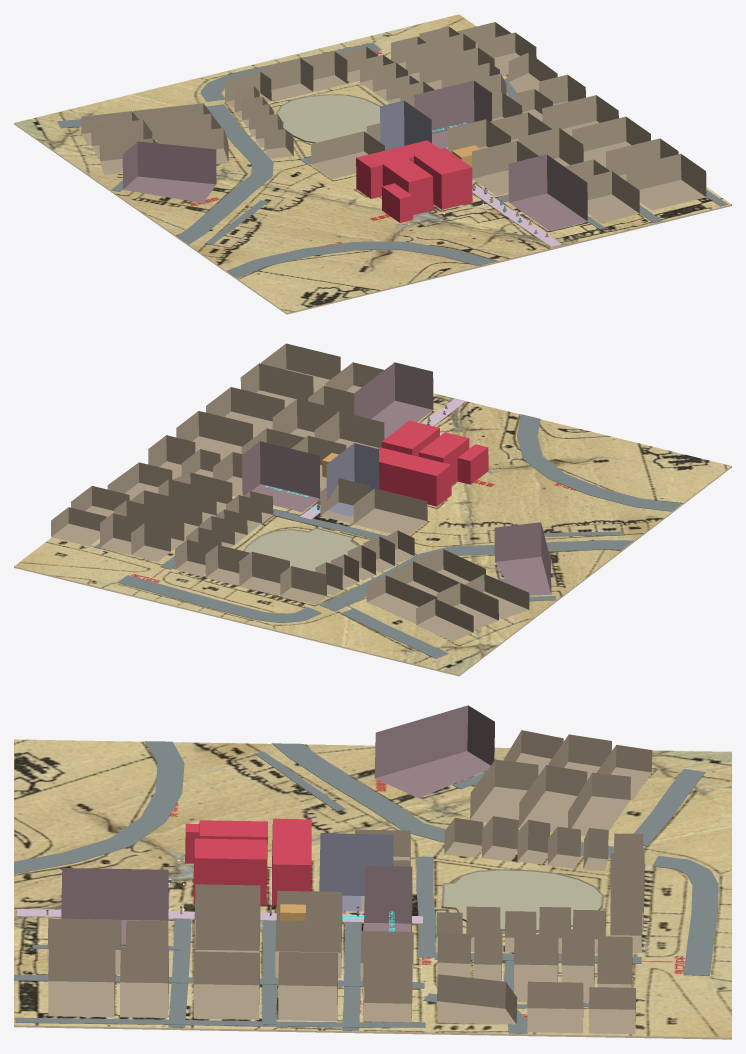
File: tung-wah-street-animation.glb
3 views of the same model, one above another, from view 1: azimuth 30°, elevation 25°; view 2: azimuth 150°, elevation 25°; view 3: azimuth 270°, elevation 25° (orthographic). The views are drawn at different scales.
Parts seen in each view (by area): view 1: 00｜原始歷史地圖參考底圖, 建築｜Theatre｜高陞戲院, 建築｜Theatre｜同慶戲院, 空地｜水坑口空地（大笪地）, 建築｜Ordinary｜普慶坊南－04, 道路｜02｜大道西｜西段, 建築｜Theatre｜昇平戲院, 道路｜10｜醫院道, 建築｜Hospital｜東華醫院－東翼, 建築｜Ordinary｜普慶坊南－02, 建築｜Ordinary｜GAP STREET南側－01, 建築｜Ordinary｜南街廓－03 (+39 smaller); view 2: 00｜原始歷史地圖參考底圖, 建築｜Theatre｜昇平戲院, 建築｜Theatre｜同慶戲院, 建築｜Theatre｜高陞戲院, 建築｜Hospital｜北養病樓, 空地｜水坑口空地（大笪地）, 道路｜10｜醫院道, 建築｜Ordinary｜GAP STREET南側－01, 建築｜Ordinary｜太平山街南－03, 建築｜Church｜聖士提反教堂, 道路｜02｜大道西｜西段, 建築｜Ordinary｜南街廓－03 (+46 smaller); view 3: 00｜原始歷史地圖參考底圖, 建築｜Theatre｜高陞戲院, 建築｜Theatre｜同慶戲院, 空地｜水坑口空地（大笪地）, 建築｜Ordinary｜普慶坊南－04, 建築｜Ordinary｜南街廓－03, 道路｜10｜醫院道, 建築｜Ordinary｜太平山街南－03, 建築｜Church｜聖士提反教堂, 建築｜Hospital｜東華醫院－東翼, 建築｜Ordinary｜荷李活道東邊角地, 建築｜Ordinary｜普慶坊南－03 (+52 smaller).
Boxes of the visible parts, box(x1,y1,x2,y2) form: 00｜原始歷史地圖參考底圖: box(14, 14, 731, 312); 建築｜Theatre｜高陞戲院: box(122, 141, 216, 203); 建築｜Theatre｜同慶戲院: box(508, 154, 587, 230); 空地｜水坑口空地（大笪地）: box(277, 94, 380, 142); 建築｜Ordinary｜普慶坊南－04: box(626, 153, 706, 210); 道路｜02｜大道西｜西段: box(177, 104, 273, 244); 建築｜Theatre｜昇平戲院: box(414, 80, 491, 148); 道路｜10｜醫院道: box(227, 241, 496, 277); 建築｜Hospital｜東華醫院－東翼: box(414, 148, 472, 209); 建築｜Ordinary｜普慶坊南－02: box(581, 171, 639, 222); 建築｜Ordinary｜GAP STREET南側－01: box(311, 131, 384, 178); 建築｜Ordinary｜南街廓－03: box(572, 116, 650, 167); 00｜原始歷史地圖參考底圖: box(14, 370, 731, 674); 建築｜Theatre｜昇平戲院: box(242, 441, 320, 512); 建築｜Theatre｜同慶戲院: box(354, 362, 433, 438); 建築｜Theatre｜高陞戲院: box(494, 522, 551, 595); 建築｜Hospital｜北養病樓: box(378, 447, 451, 506); 空地｜水坑口空地（大笪地）: box(244, 528, 357, 571); 道路｜10｜醫院道: box(517, 414, 681, 511); 建築｜Ordinary｜GAP STREET南側－01: box(353, 488, 427, 535); 建築｜Ordinary｜太平山街南－03: box(176, 411, 252, 460); 建築｜Church｜聖士提反教堂: box(326, 443, 379, 516); 道路｜02｜大道西｜西段: box(319, 540, 633, 611); 建築｜Ordinary｜南街廓－03: box(206, 387, 284, 438); 00｜原始歷史地圖參考底圖: box(14, 739, 731, 1037); 建築｜Theatre｜高陞戲院: box(374, 705, 494, 798); 建築｜Theatre｜同慶戲院: box(61, 868, 168, 944); 空地｜水坑口空地（大笪地）: box(444, 869, 601, 929); 建築｜Ordinary｜普慶坊南－04: box(48, 947, 115, 1017); 建築｜Ordinary｜南街廓－03: box(193, 951, 259, 1019); 道路｜10｜醫院道: box(14, 741, 184, 873); 建築｜Ordinary｜太平山街南－03: box(278, 951, 337, 1021); 建築｜Church｜聖士提反教堂: box(319, 833, 393, 911); 建築｜Hospital｜東華醫院－東翼: box(193, 838, 267, 905); 建築｜Ordinary｜荷李活道東邊角地: box(437, 974, 517, 1024); 建築｜Ordinary｜普慶坊南－03: box(120, 947, 168, 1017).
Bounding box in the file's own units: 121 × 14.3 × 128.
20 materials, 1 textured.
